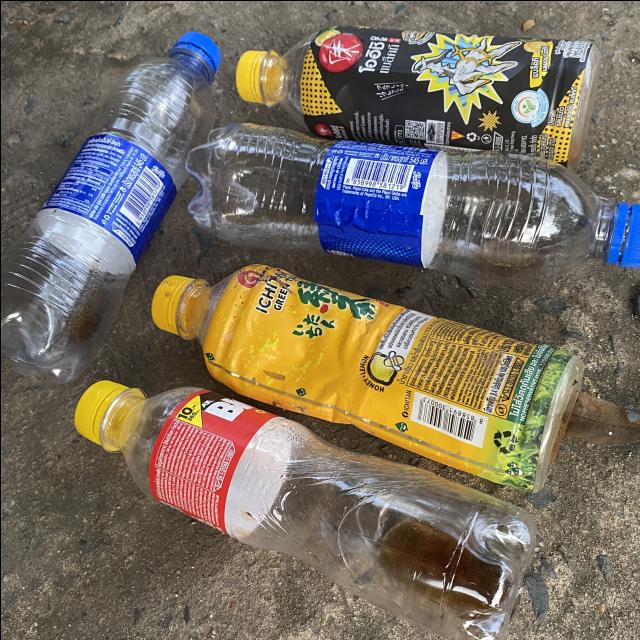plastik: (74, 381, 534, 640), (151, 263, 582, 491), (0, 32, 220, 382), (185, 123, 640, 283), (235, 25, 600, 167)
